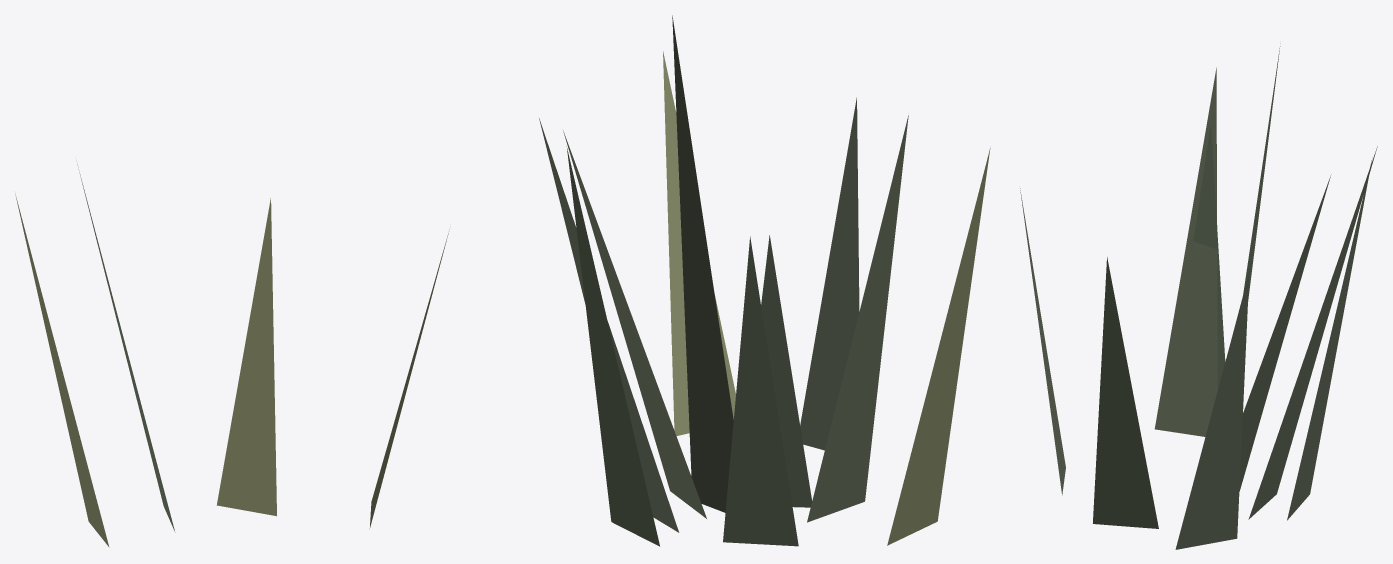
File: reeds.glb
3 views of the same model, side by side, from view 1: azimuth 30°, elevation 25°; view 2: azimuth 150°, elevation 25°; view 3: azimuth 270°, elevation 25° (orthographic). The views are drawn at different scales.
Visible parts, largest first — view 1: reeds; view 2: reeds; view 3: reeds.
Part boxes in pixels (x1,y1,x2,y2): reeds: (15, 164, 449, 547); reeds: (539, 15, 990, 546); reeds: (1020, 43, 1377, 549).
Bounding box in the file's own units: 1.3 × 1.35 × 0.9603.
